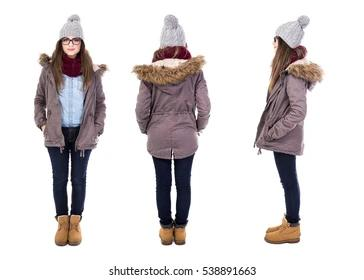coat: (131, 54, 213, 160), (32, 51, 108, 152), (253, 57, 325, 154)
long sleeve shirt: (55, 69, 88, 130)
trousers: (46, 125, 94, 219), (150, 150, 196, 230), (273, 149, 301, 228)
